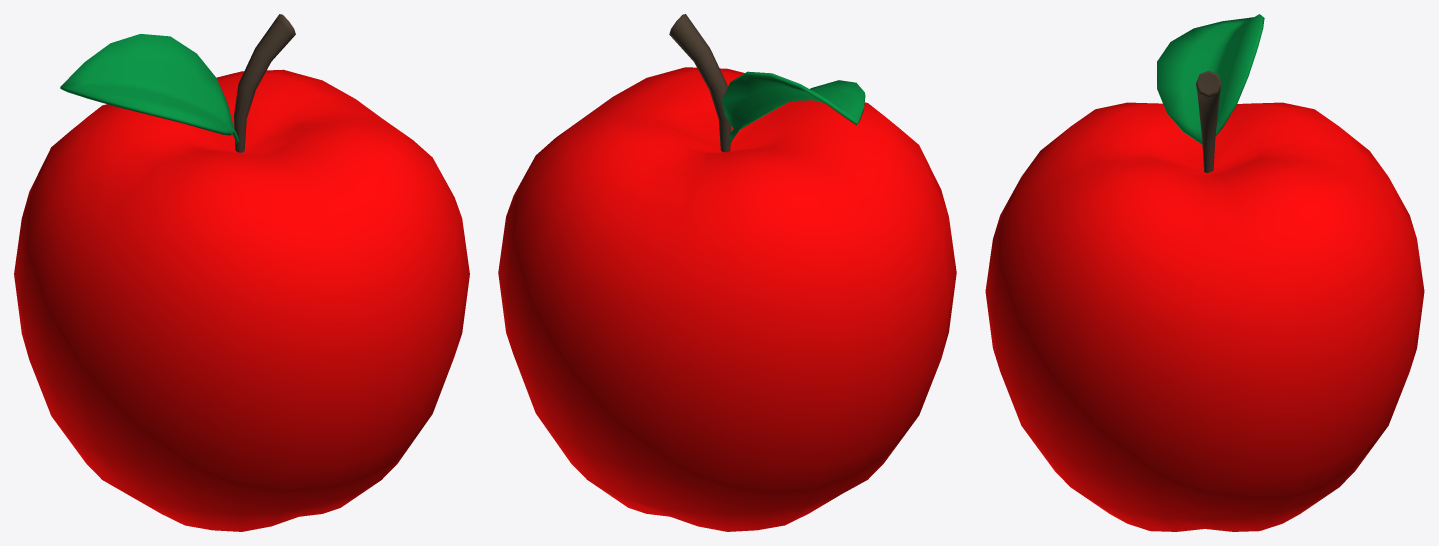
File: applered.fbx
3 renders of one model, left to right at view 1: azimuth 30°, elevation 25°; view 2: azimuth 150°, elevation 25°; view 3: azimuth 270°, elevation 25°, orthographic. The views are drawn at different scales.
Visible parts, largest first — view 1: Apple; view 2: Apple; view 3: Apple.
Part boxes in pixels (x1,y1,x2,y2): Apple: (14, 14, 469, 531); Apple: (498, 14, 956, 531); Apple: (985, 14, 1424, 531).
Size of the model in its own units: 203 by 232 by 203.
